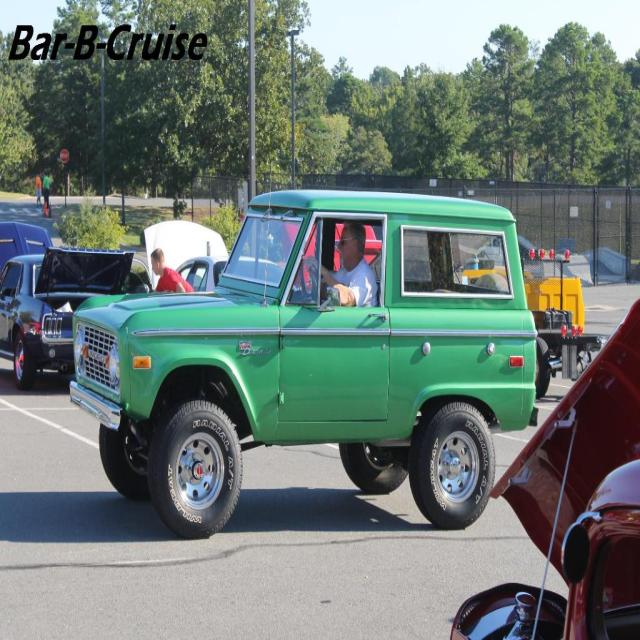car: (66, 159, 540, 536)
